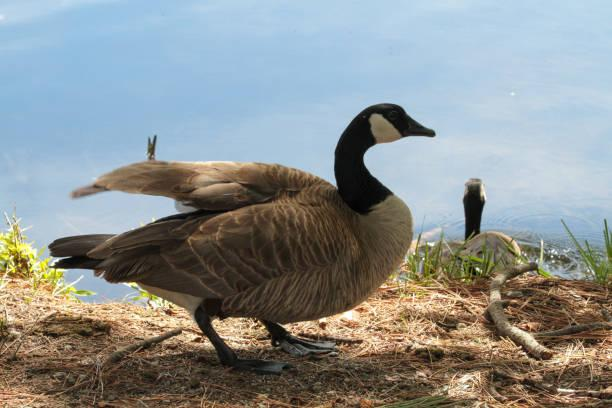Canadian-Goose: (63, 93, 441, 364)
